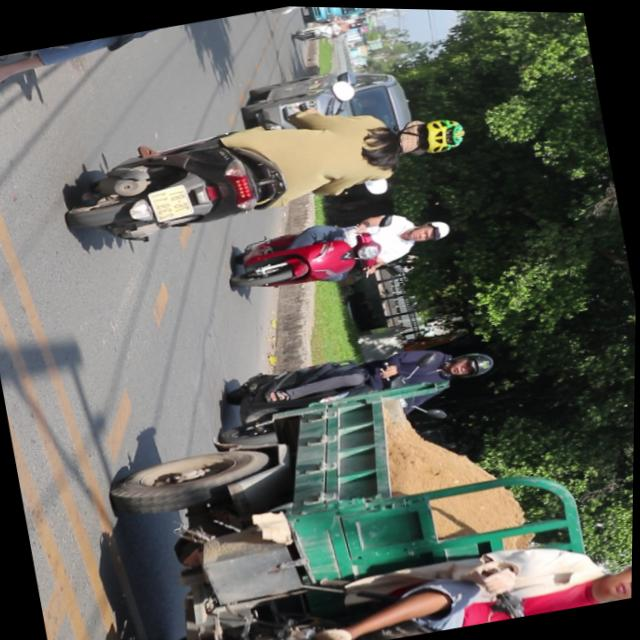helmet: (398, 109, 470, 161), (444, 347, 497, 381), (407, 217, 454, 245)
licenseplate: (32, 432, 635, 640), (54, 74, 480, 264), (210, 319, 505, 457), (224, 197, 459, 305)
motorcyclist: (590, 549, 634, 601)
nohelmet: (147, 183, 195, 224)
